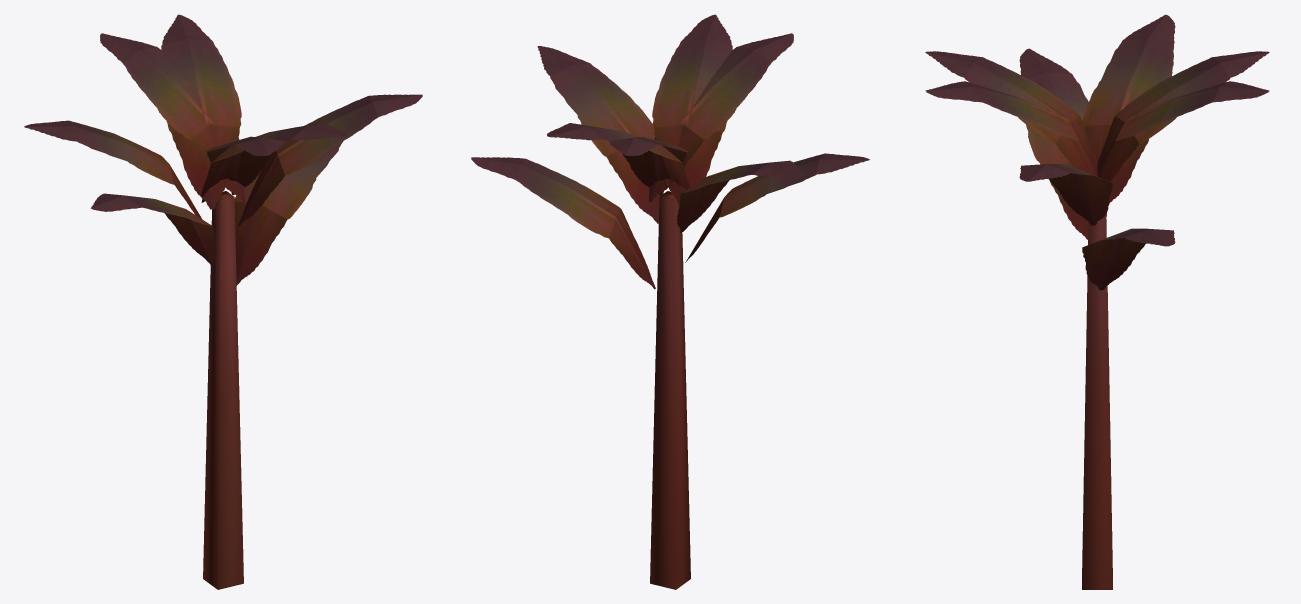
File: flora_alfa.dae
3 renders of one model, left to right at view 1: azimuth 30°, elevation 25°; view 2: azimuth 150°, elevation 25°; view 3: azimuth 270°, elevation 25°, orthographic. The views are drawn at different scales.
Visible parts, largest first — view 1: flora_alfa; view 2: flora_alfa; view 3: flora_alfa.
Boxes of the visible parts, x1,y1,x2,y2 form: flora_alfa: (24, 14, 422, 589); flora_alfa: (471, 14, 869, 589); flora_alfa: (925, 14, 1269, 589).
Size of the model in its own units: 12.11 by 10.67 by 15.95.
